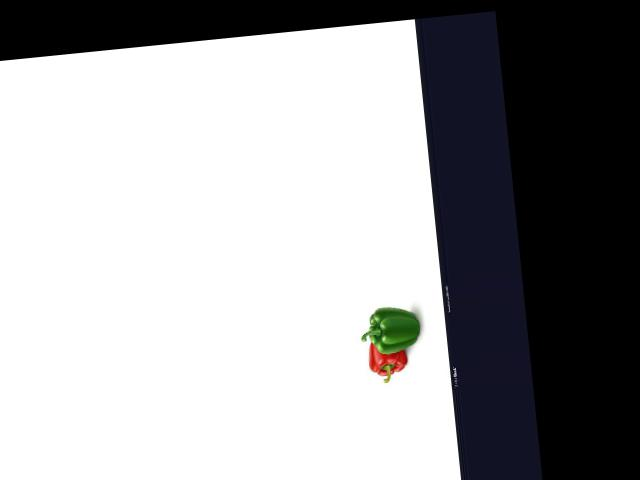bell_pepper: (361, 337, 408, 384)
